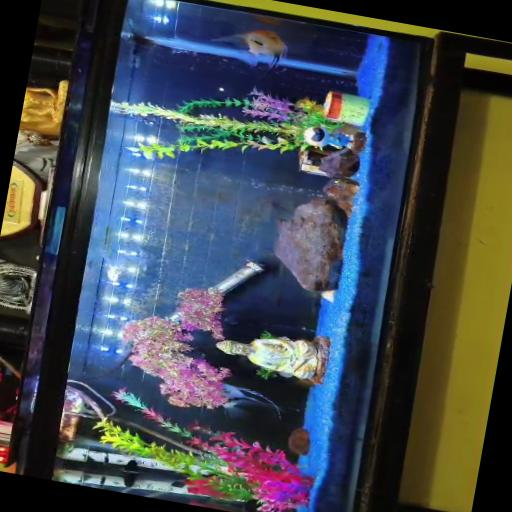Fish: (212, 30, 287, 68), (223, 384, 281, 418), (250, 14, 304, 26), (251, 14, 281, 26), (106, 264, 122, 282)
